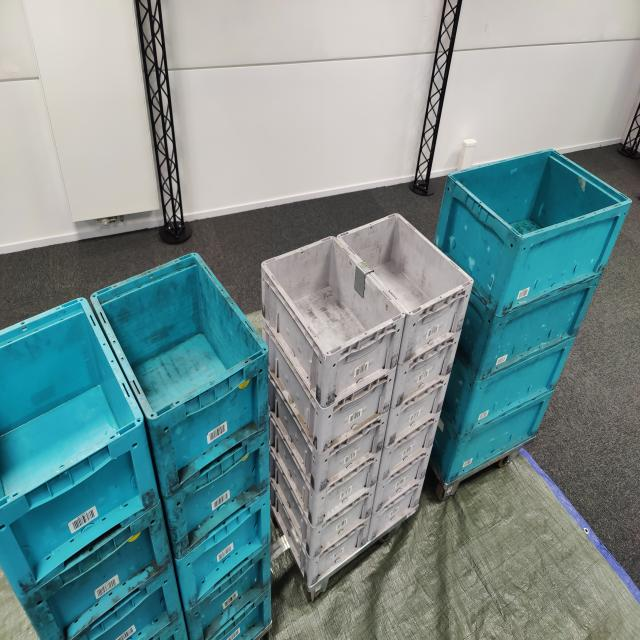Box8G: (254, 236, 406, 414), (333, 212, 473, 368), (260, 315, 402, 457), (267, 412, 384, 530), (260, 400, 390, 494), (267, 452, 378, 560), (269, 477, 373, 588), (391, 327, 465, 409), (382, 371, 451, 452), (377, 408, 442, 487), (372, 444, 434, 518), (368, 476, 428, 544)
BoxB4: (434, 146, 636, 318), (468, 263, 604, 382), (437, 331, 579, 439), (429, 387, 556, 483)
BoxB8: (0, 294, 159, 602), (90, 248, 270, 499), (14, 499, 173, 632), (162, 432, 274, 560), (179, 488, 276, 618), (182, 547, 273, 640), (75, 561, 181, 640), (216, 589, 284, 640)
